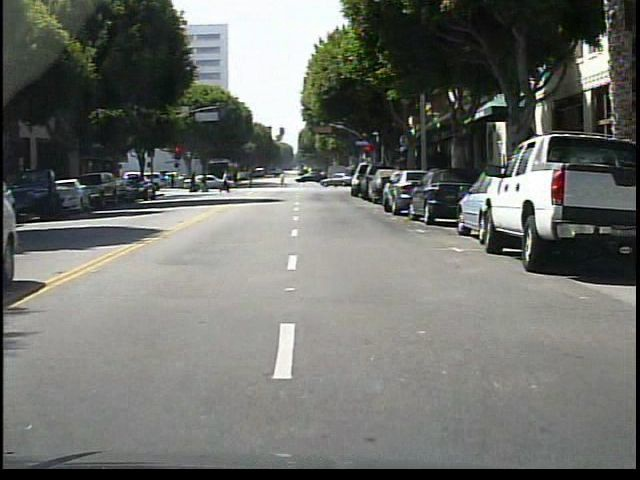person: (219, 166, 239, 196)
